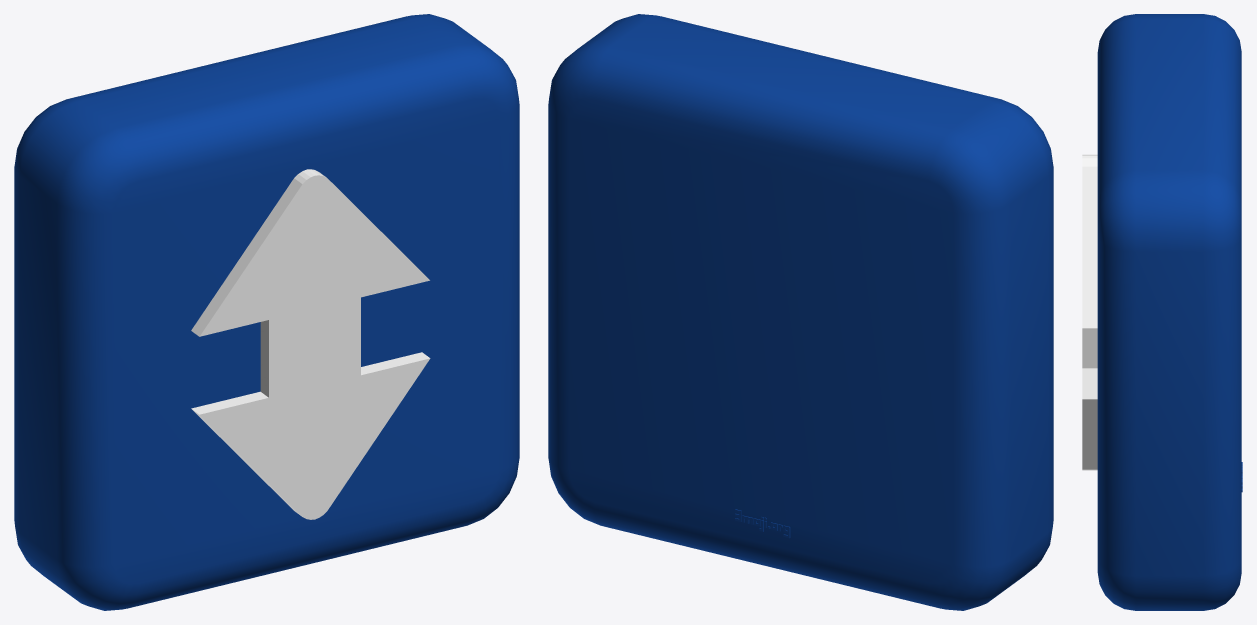
File: up_down_arrow.fbx
3 views of the same model, side by side, from view 1: azimuth 30°, elevation 25°; view 2: azimuth 150°, elevation 25°; view 3: azimuth 270°, elevation 25° (orthographic). The views are drawn at different scales.
Visible parts, largest first — view 1: Cube.6328; view 2: Cube.6328; view 3: Cube.6328.
Part boxes in pixels (bbox=[...]): Cube.6328: bbox=[14, 14, 519, 610]; Cube.6328: bbox=[548, 14, 1053, 610]; Cube.6328: bbox=[1082, 14, 1242, 610].
Size of the model in its own units: 220 by 220 by 73.37.
1 material, 1 textured.
